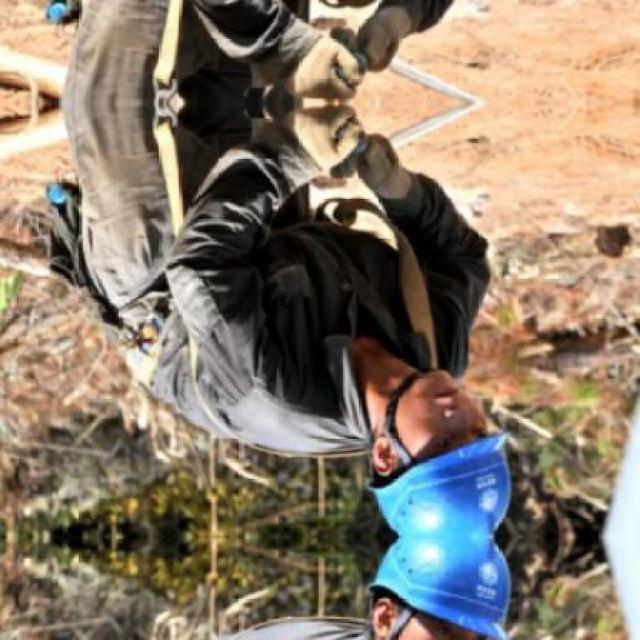safetyhelmet: (362, 397, 524, 540)
